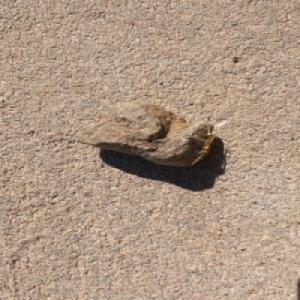Rock: (74, 100, 217, 167)
